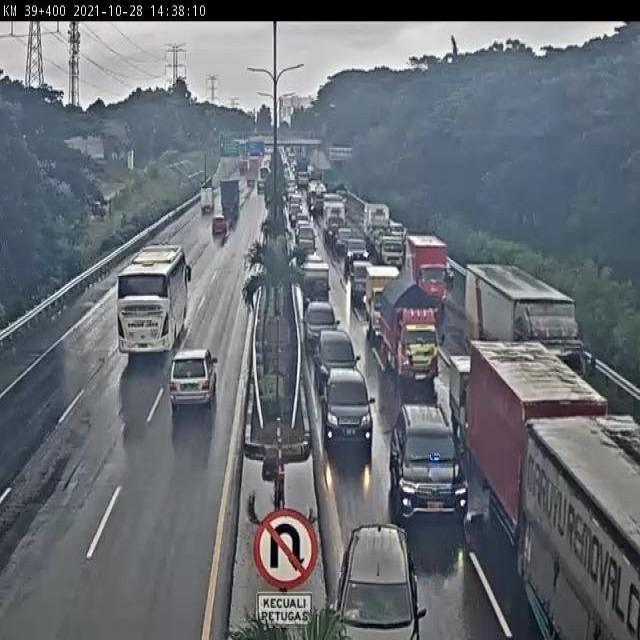big bus: (105, 246, 193, 374)
big truck: (467, 335, 612, 541), (525, 412, 640, 640), (465, 261, 594, 392), (385, 269, 443, 371), (405, 234, 453, 314), (450, 357, 484, 448), (363, 201, 405, 268), (366, 266, 402, 330), (218, 174, 238, 214), (198, 187, 215, 220)
car: (332, 514, 418, 640), (394, 393, 461, 524), (169, 348, 231, 421), (322, 365, 374, 444), (318, 328, 357, 385), (303, 301, 342, 343), (351, 261, 373, 304), (346, 237, 368, 267), (210, 213, 226, 243)
